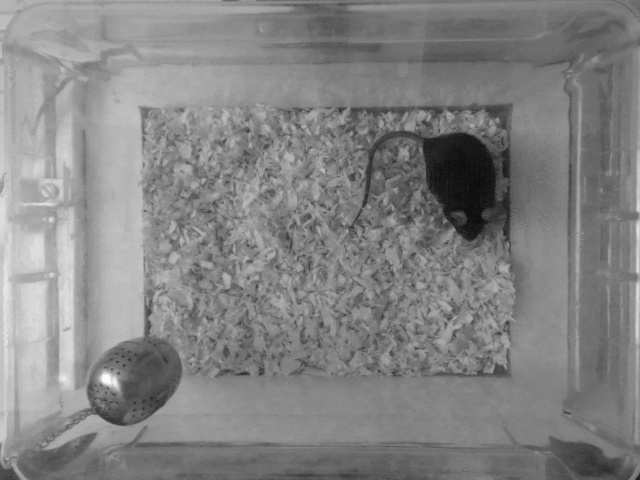mice: (349, 126, 498, 245)
